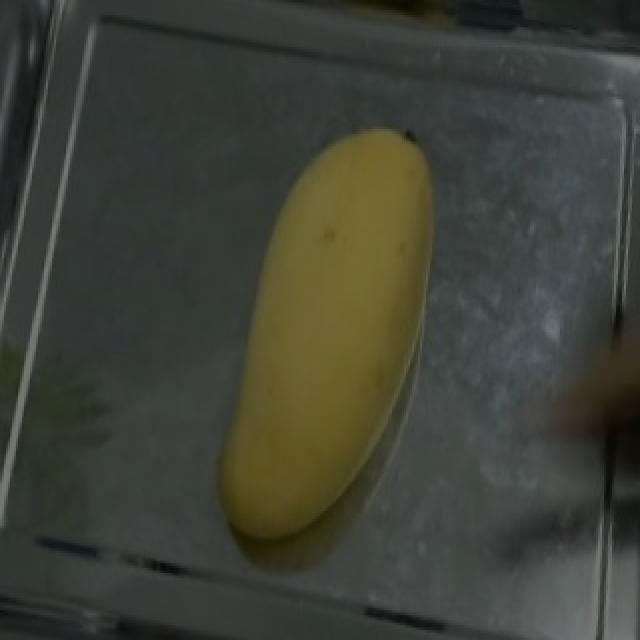fruit: (228, 107, 460, 481)
